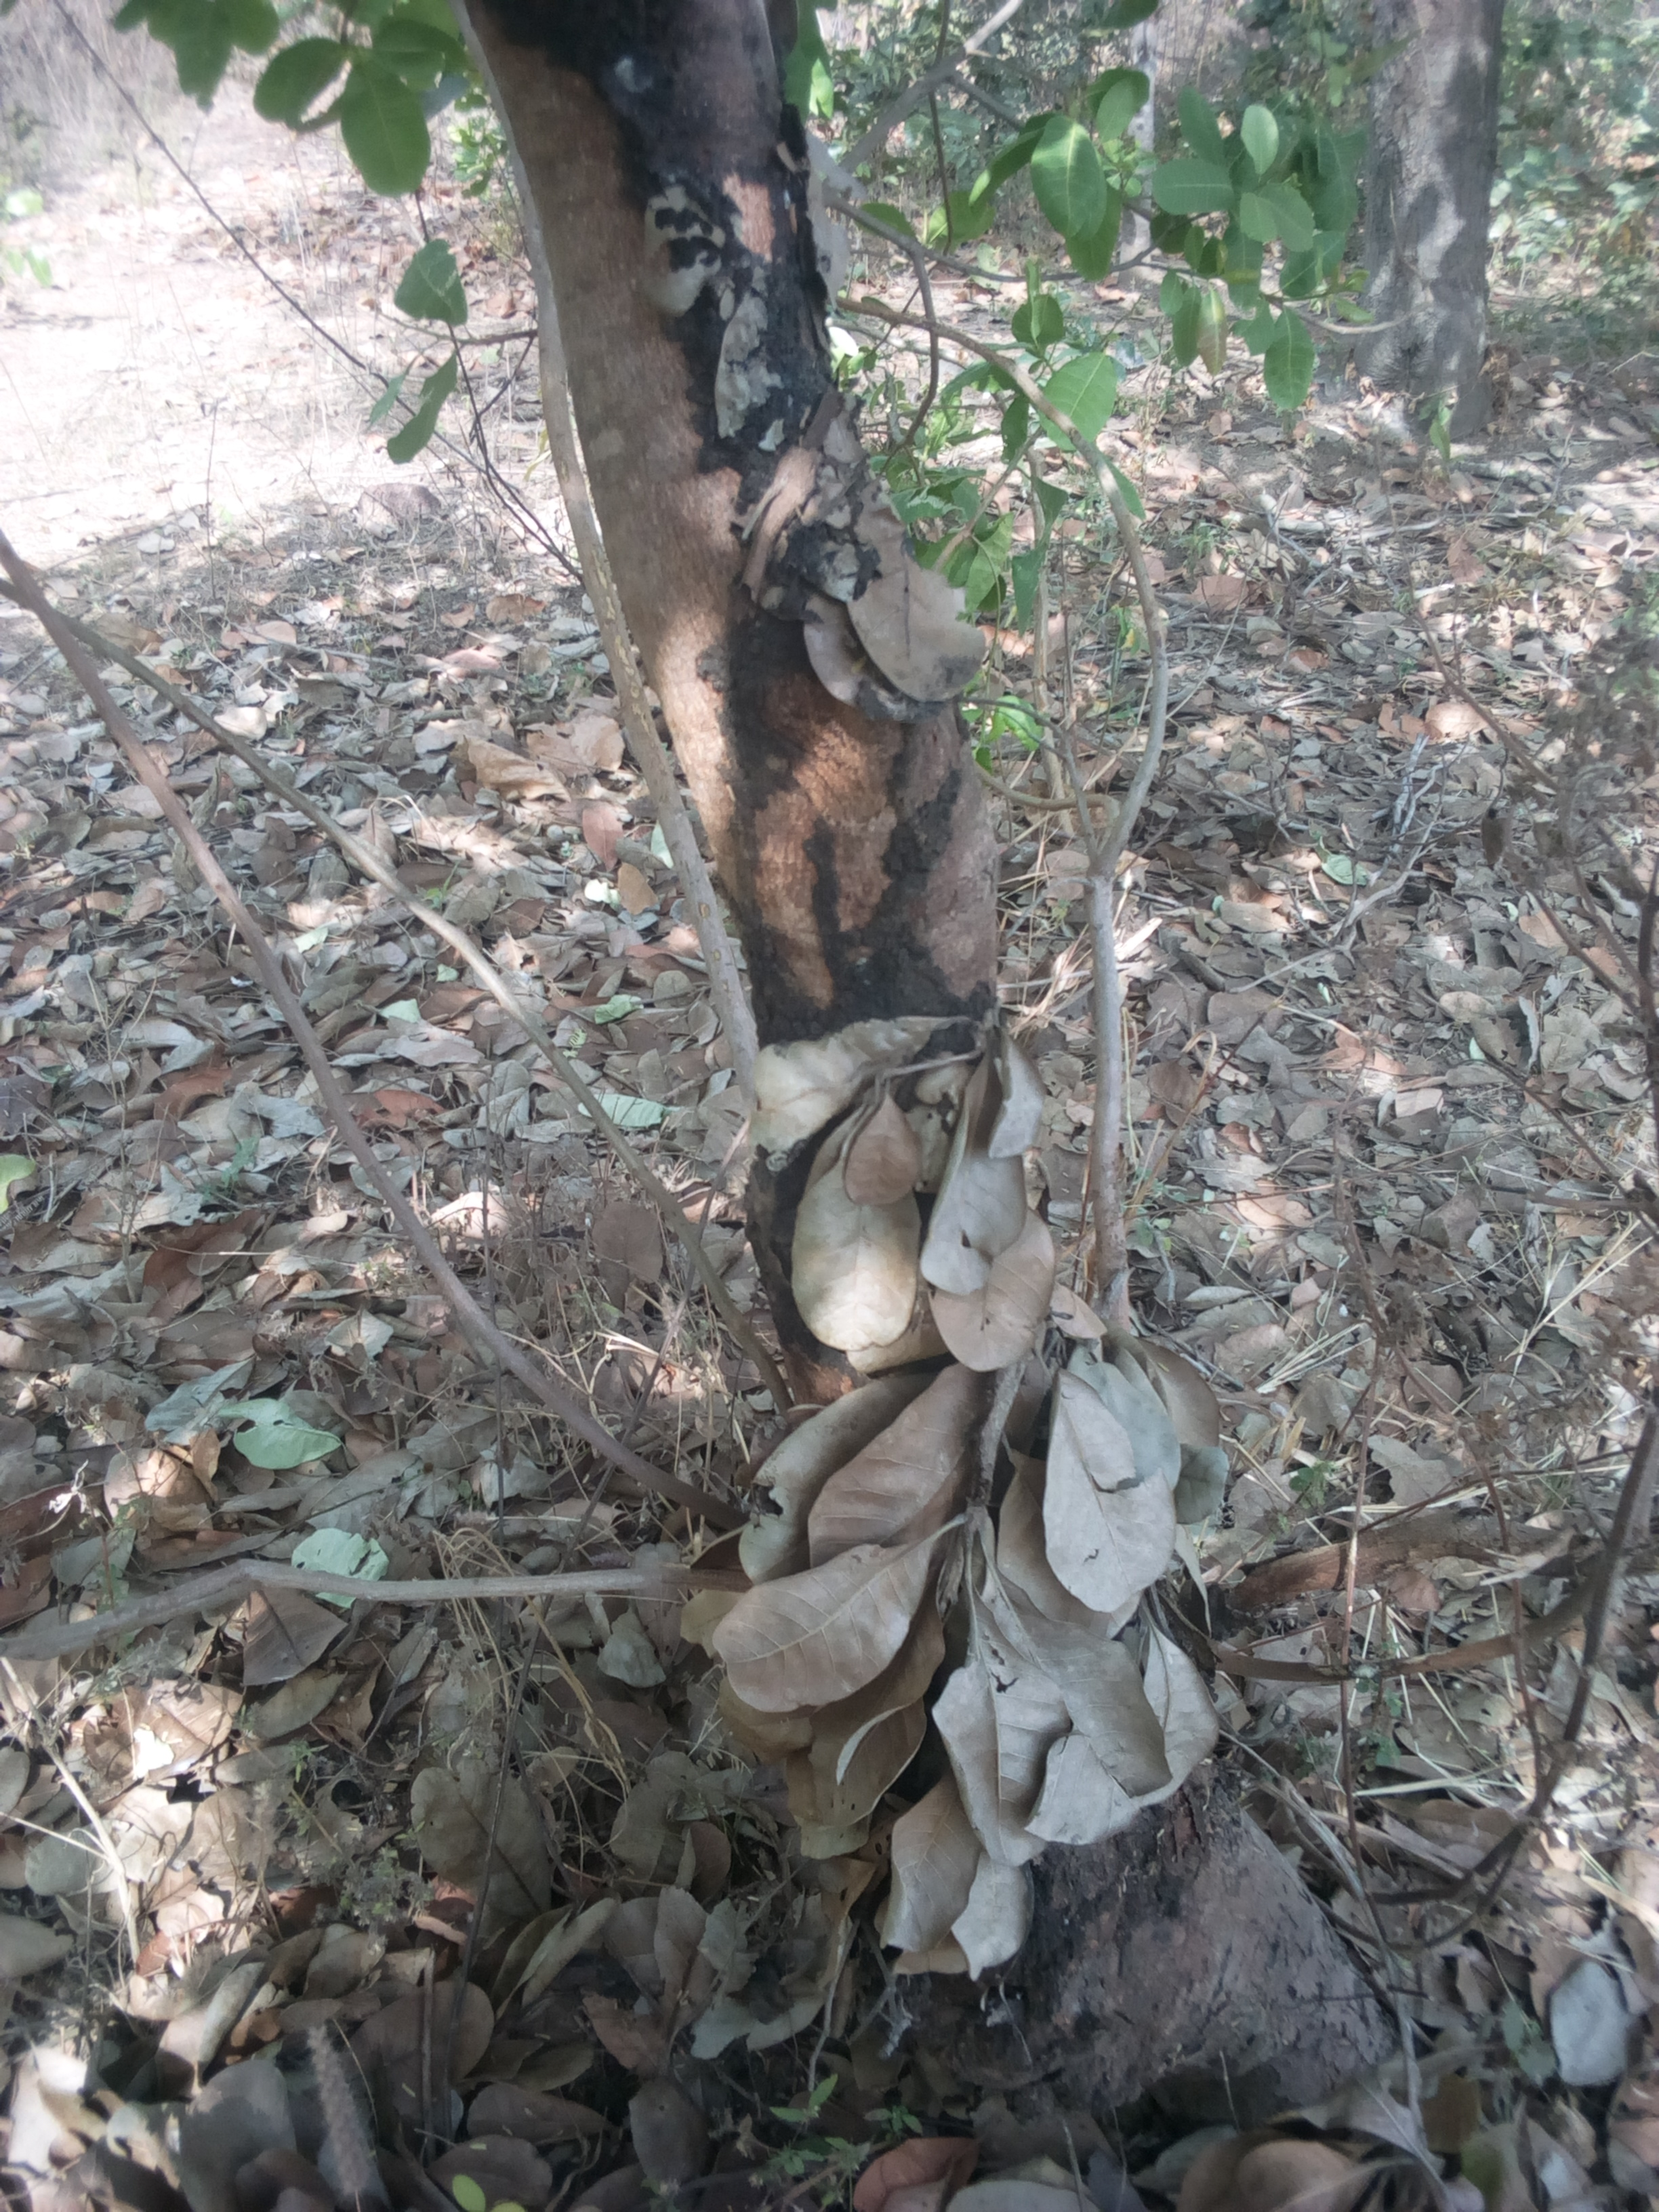Termites: (741, 676, 976, 1024), (633, 66, 843, 446)
